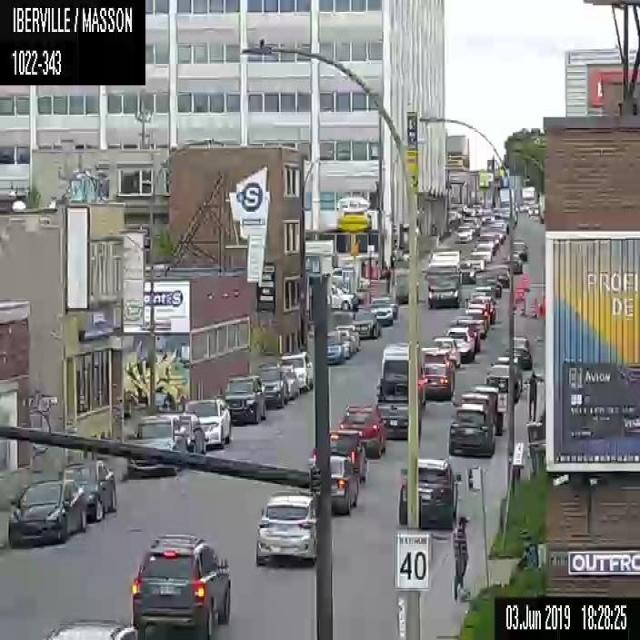bus: (424, 246, 460, 308)
construction: (537, 303, 544, 342), (514, 273, 524, 299), (370, 278, 378, 297), (369, 259, 377, 278), (530, 295, 536, 319), (363, 260, 367, 277)
pedestrian: (448, 512, 468, 604), (514, 529, 538, 571), (528, 368, 538, 420)
vehicle: (129, 531, 231, 638), (7, 479, 86, 545), (395, 455, 461, 529), (254, 490, 318, 566), (56, 460, 118, 525), (125, 412, 185, 474), (380, 342, 426, 409), (337, 403, 387, 461), (312, 454, 358, 516), (375, 379, 418, 442), (448, 402, 497, 456), (184, 396, 232, 450), (221, 372, 265, 426), (328, 427, 368, 482), (41, 620, 142, 638), (254, 362, 289, 412), (276, 349, 314, 392), (472, 382, 503, 434), (484, 361, 518, 406), (175, 413, 207, 456), (423, 361, 454, 401), (443, 326, 475, 361), (458, 387, 496, 415), (505, 334, 531, 371), (430, 334, 460, 364), (392, 269, 418, 303), (329, 283, 356, 310), (352, 310, 378, 337), (281, 365, 299, 402), (327, 330, 344, 366), (371, 298, 394, 324), (488, 264, 510, 290), (338, 323, 358, 350), (340, 328, 354, 361), (421, 347, 448, 363), (510, 238, 528, 262), (501, 253, 523, 272), (459, 259, 475, 284), (472, 242, 494, 260), (454, 222, 472, 242)
